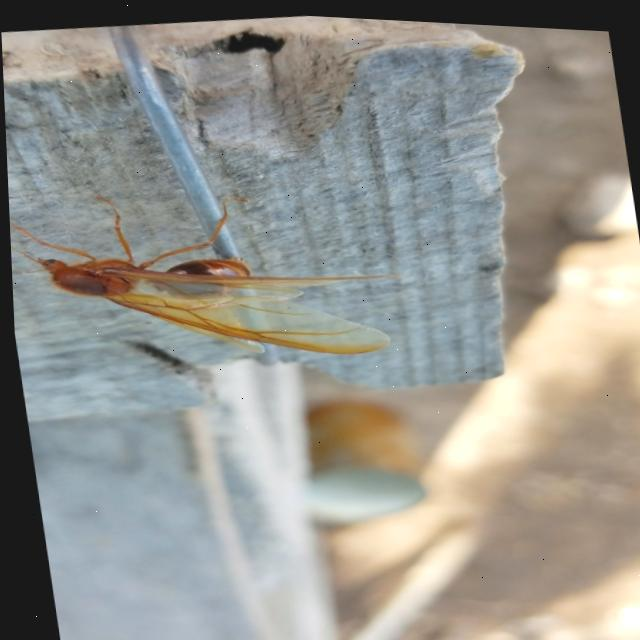Alive-Male-Alate: (6, 161, 411, 389)
